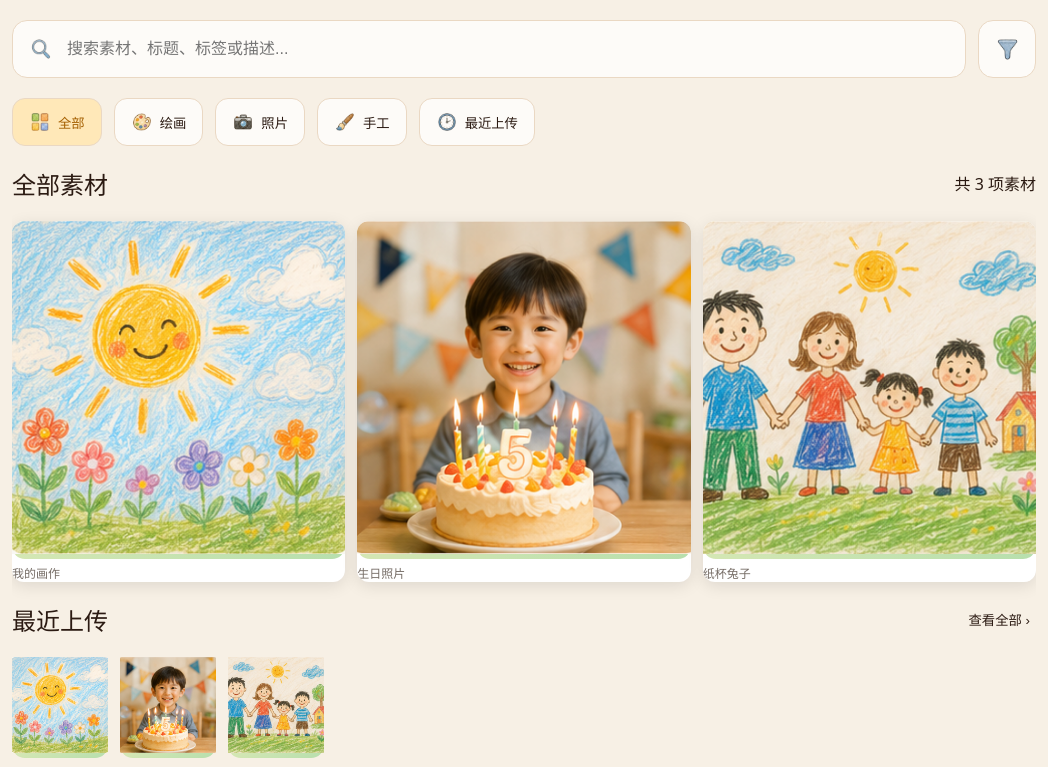
Test: AssetBrowser › filters assets by type
The image size is (1048, 767).
Expected: the text "我的画作" is shown, [12,565,60,582]
Step 1. Click the button "绘画" → (159, 122), box [114,98,203,146]
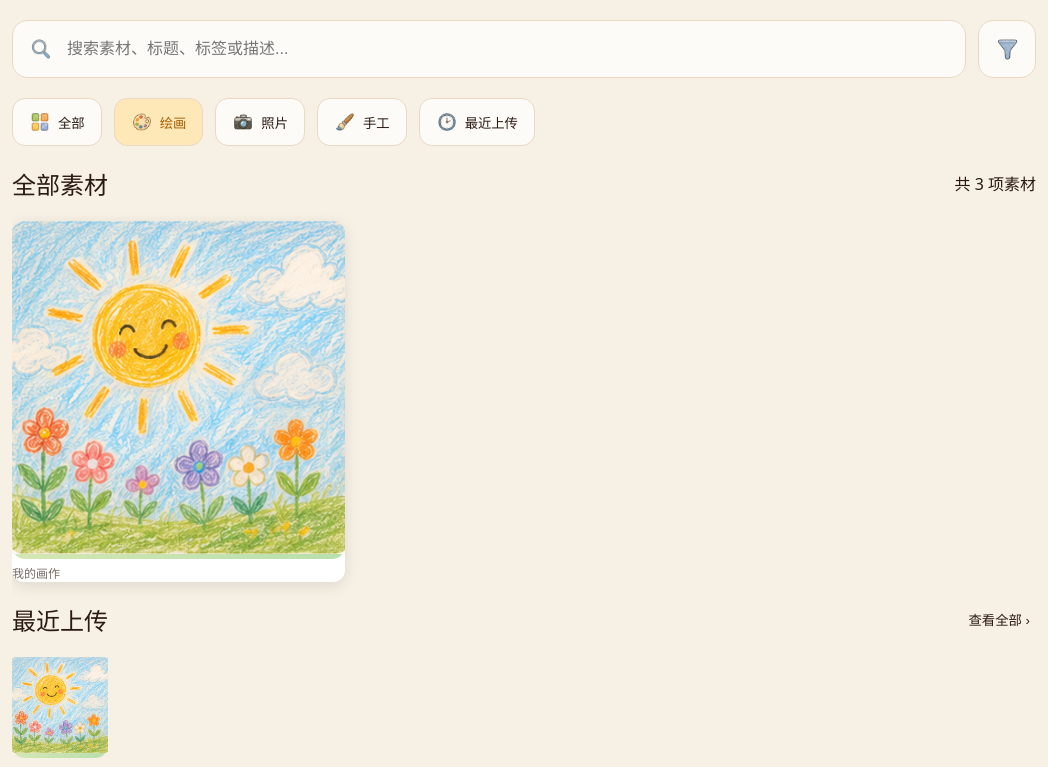
Expected: the text "我的画作" is shown, [12,565,60,582]
Expected: the text "生日照片" is gone
